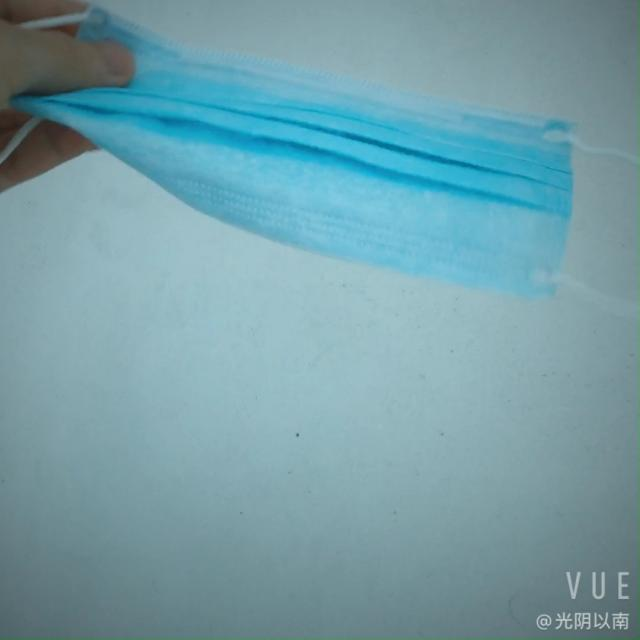non-organic waste: (16, 0, 574, 287)
